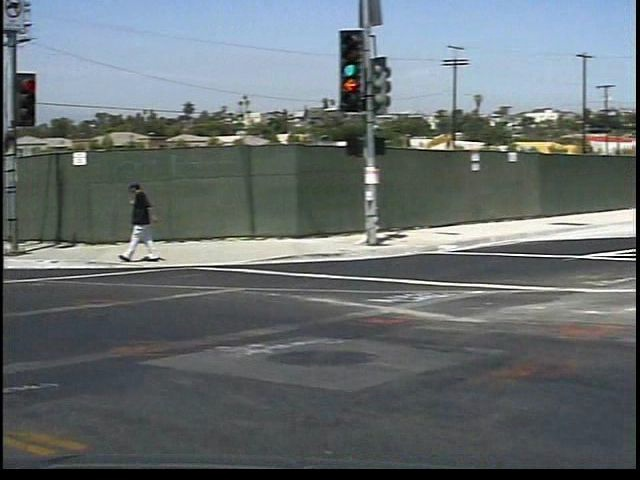person: (109, 177, 155, 278)
